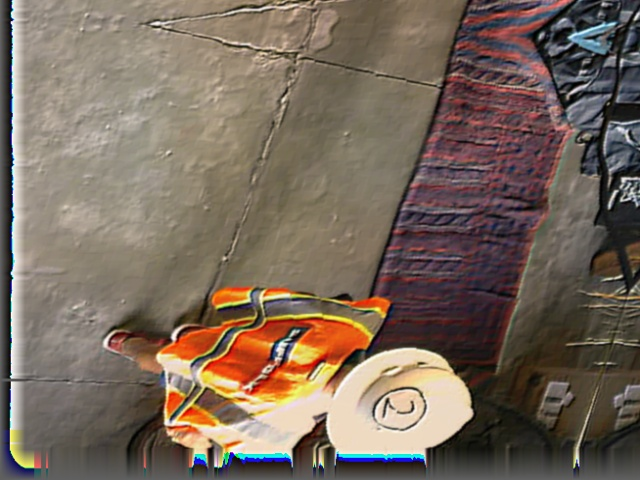two: (367, 386, 436, 432)
